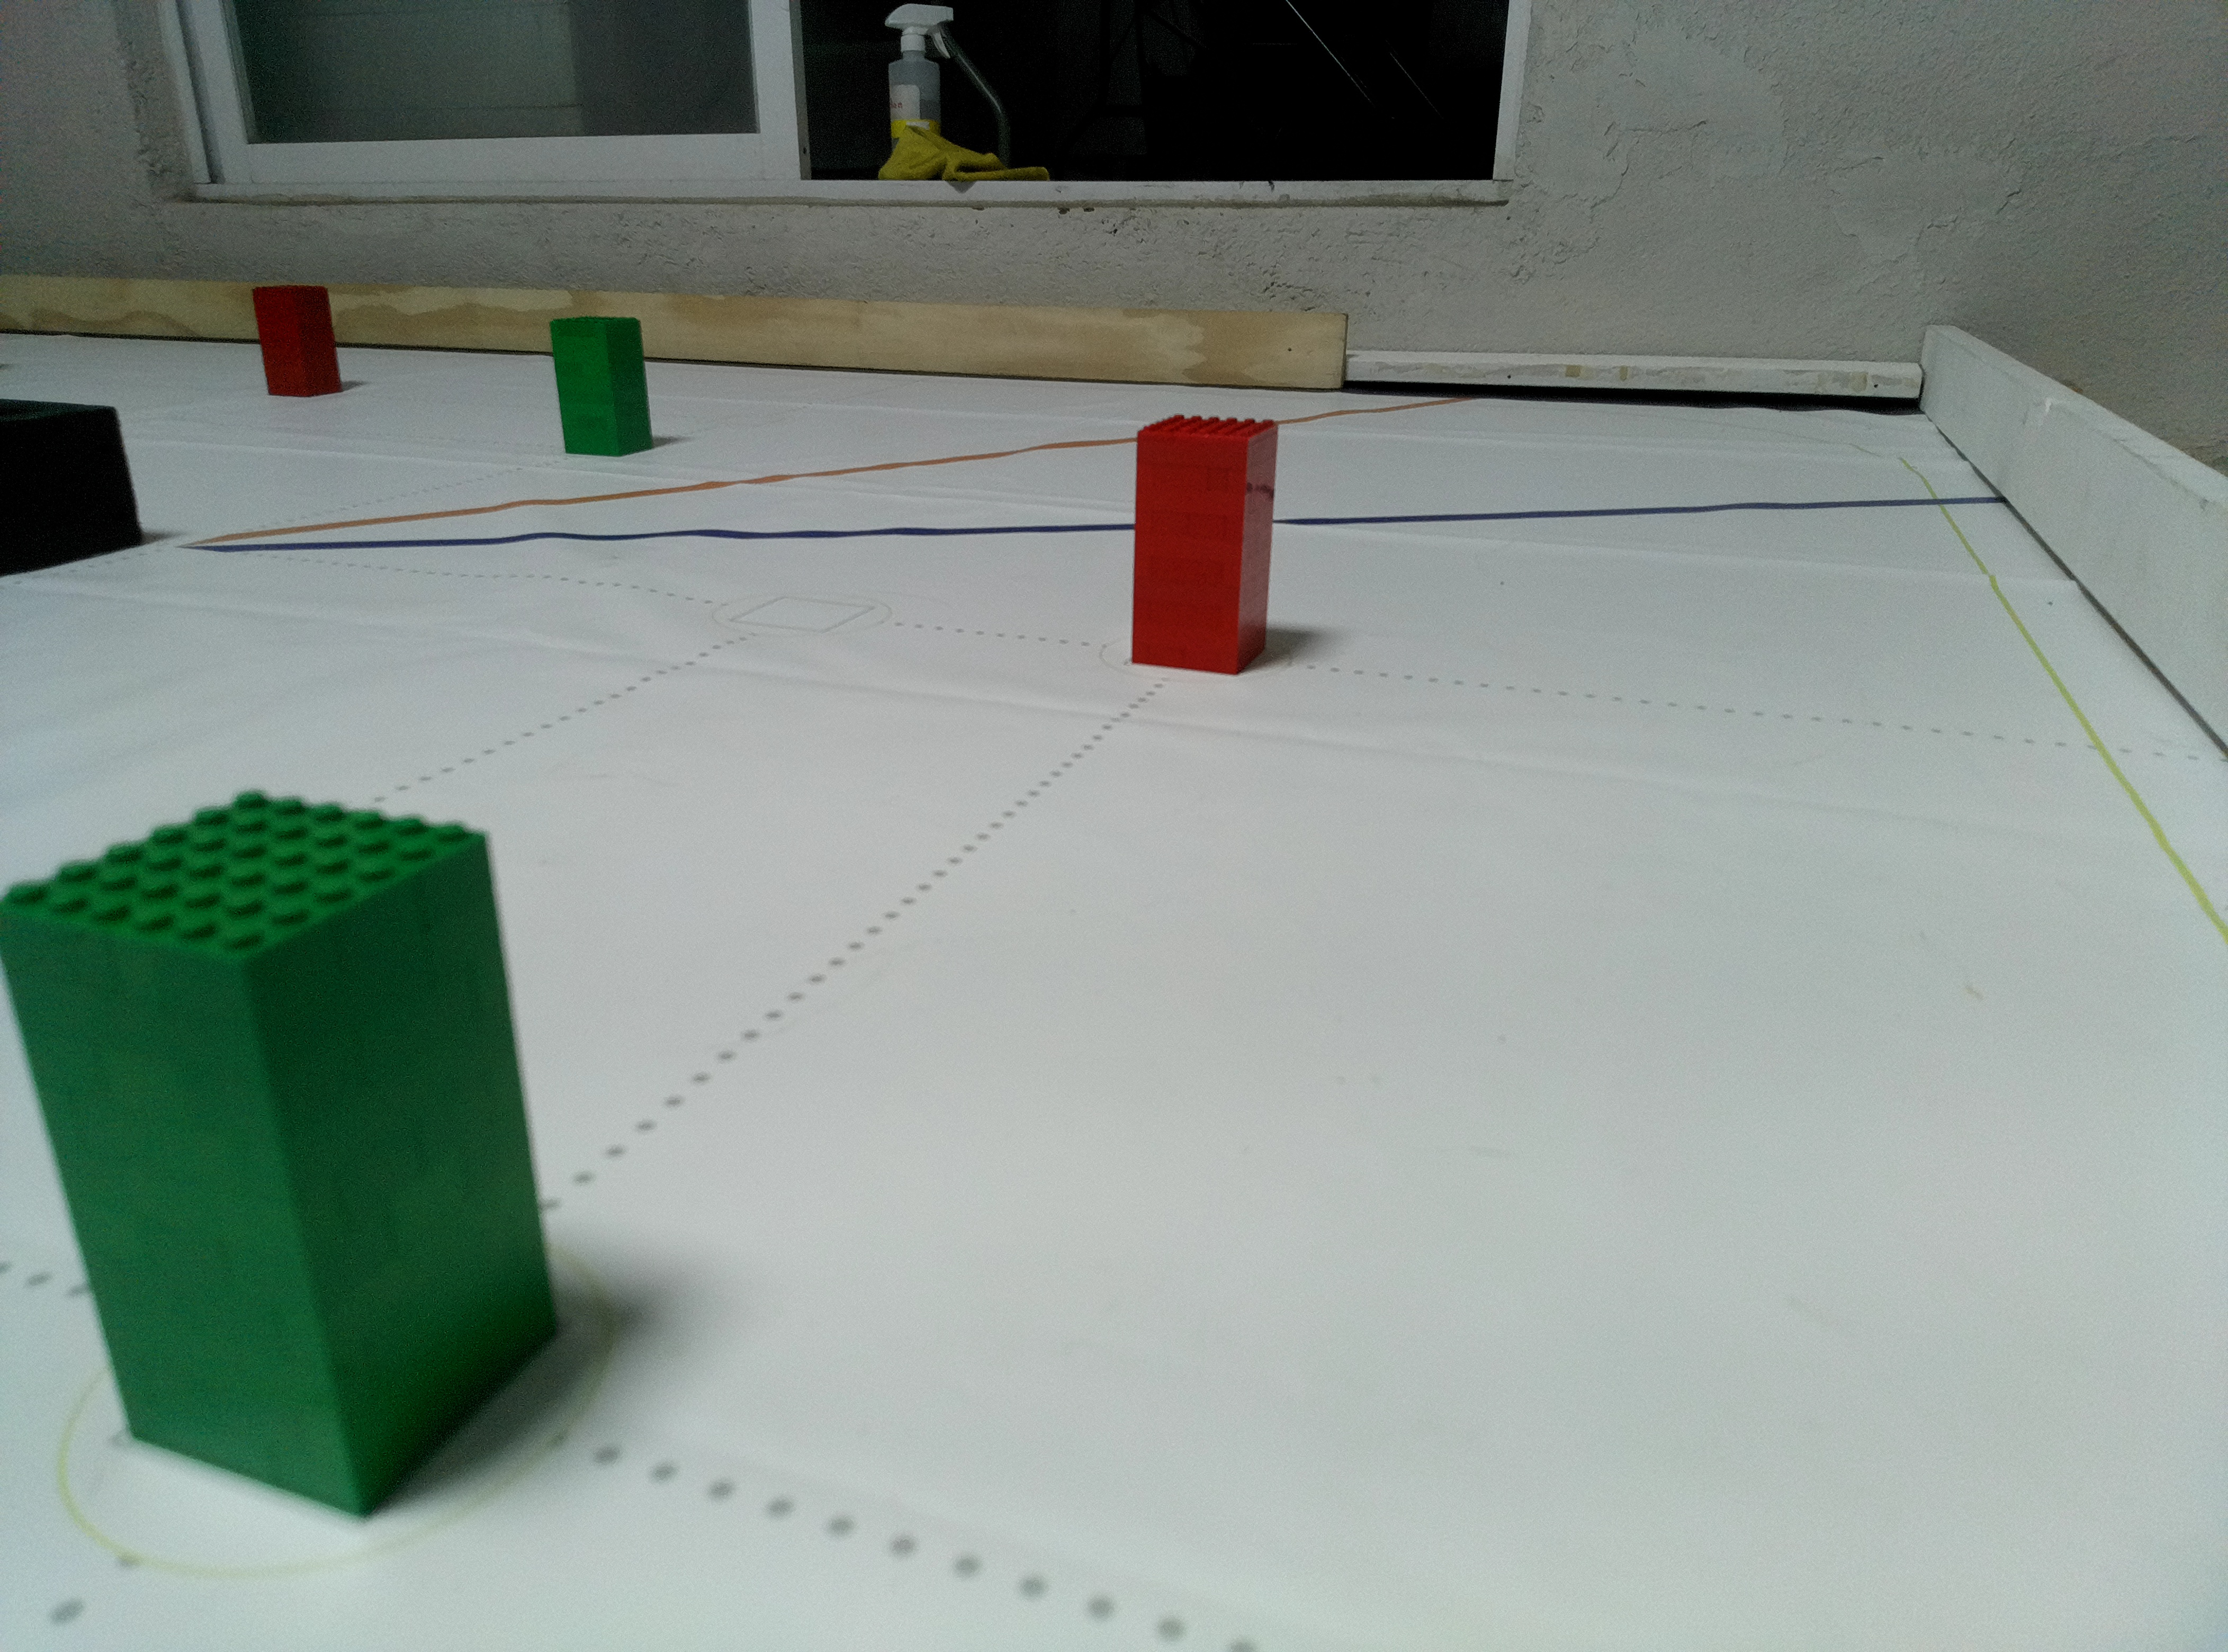greenbox: (0, 777, 573, 1522), (545, 312, 658, 458)
redbox: (1126, 413, 1282, 680), (250, 281, 345, 399)
